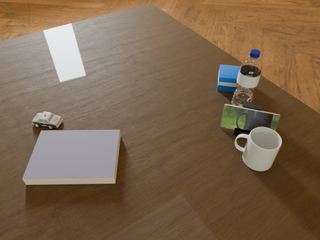book: (22, 130, 121, 185)
bottle: (231, 49, 262, 107)
box: (217, 65, 240, 92)
cup: (235, 127, 282, 171)
phone: (220, 104, 280, 134)
toy_car: (32, 112, 63, 129)
